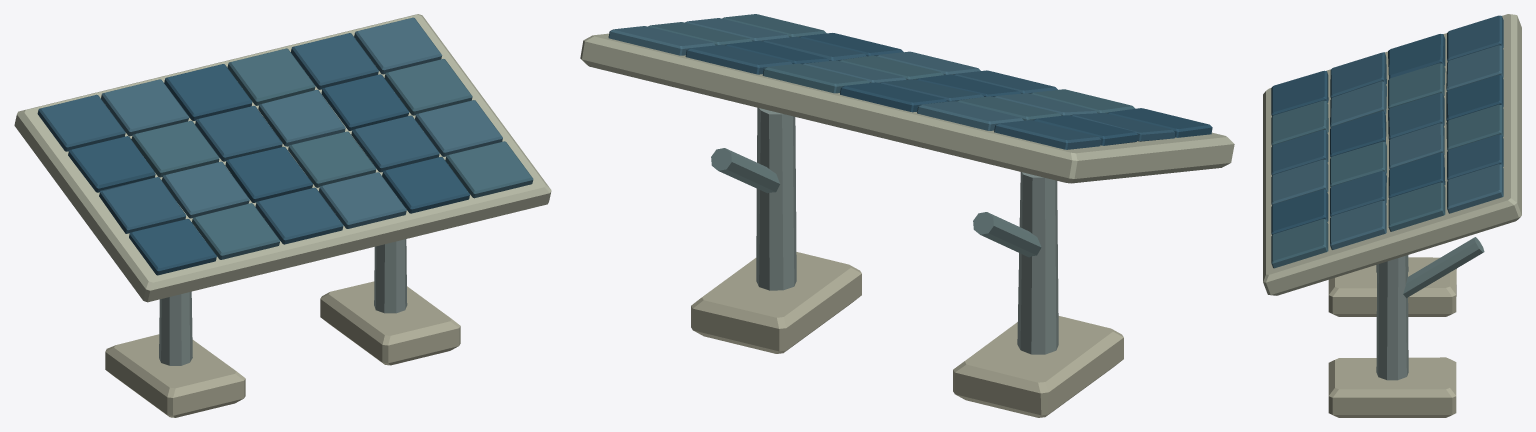
Rendered from solar_array.glb.
The picture shows the model from 3 angles, left to right: view 1: azimuth 30°, elevation 25°; view 2: azimuth 150°, elevation 25°; view 3: azimuth 270°, elevation 25°; orthographic projection. The views are drawn at different scales.
Parts seen in each view (by area): view 1: solar_array; view 2: solar_array; view 3: solar_array.
Boxes of the visible parts, left/top/right/bottom form: solar_array: left=14, top=14, right=551, bottom=417; solar_array: left=580, top=14, right=1234, bottom=417; solar_array: left=1263, top=14, right=1521, bottom=417.
Bounding box in the file's own units: 1.66 × 1.01 × 0.9536.
